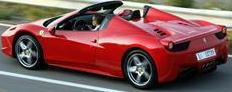back_view: (155, 23, 227, 80)
backlight: (158, 30, 196, 61)
side_glass: (51, 4, 127, 34)
